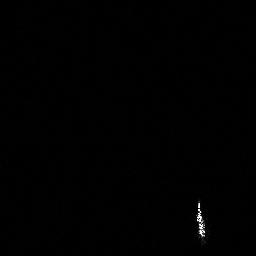ship: (190, 197, 211, 243)
